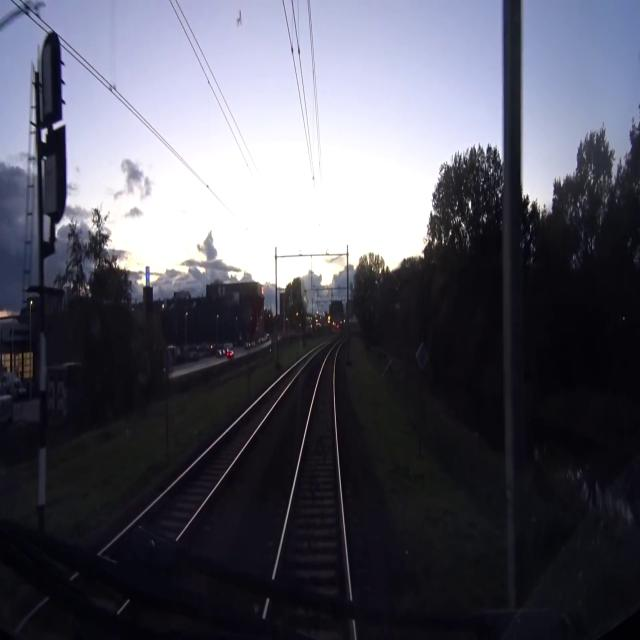rail-track: (115, 355, 310, 552), (274, 346, 349, 603)
